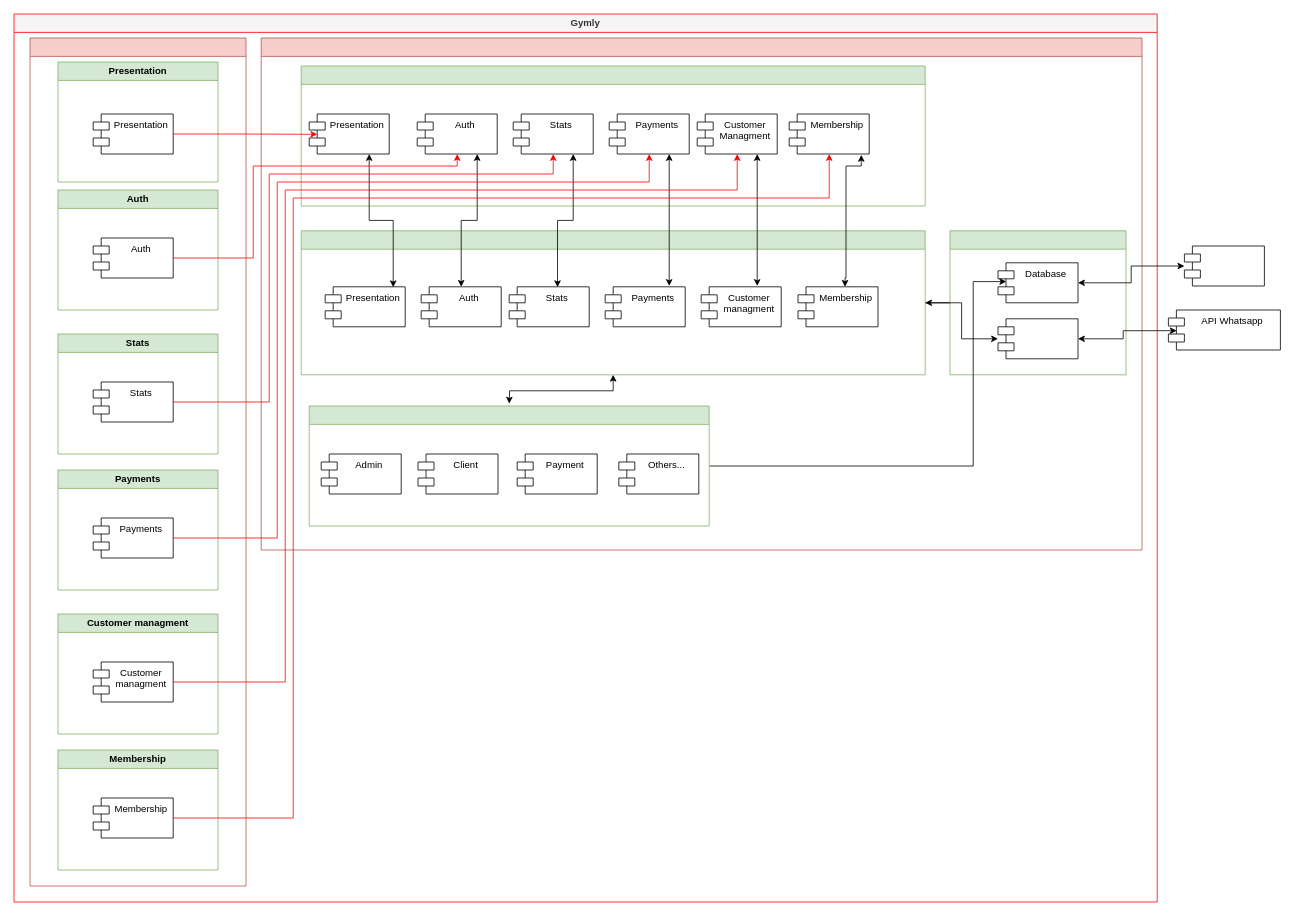
Image size: 1294x916. Some labels were removed from this diagram. The shapes that lost their labels are listed below. From the top down, each one's box as (x1, y1, x2, y2) in pixels, then its label:
(300, 65, 925, 206): Controllers
(1184, 245, 1264, 286): Postgresql
(300, 230, 925, 375): Services
(260, 37, 1142, 550): Backend
(949, 230, 1126, 375): Infrastructure
(997, 318, 1078, 359): Whatsapp
(29, 37, 246, 886): Frontend
(308, 405, 709, 526): Domain
